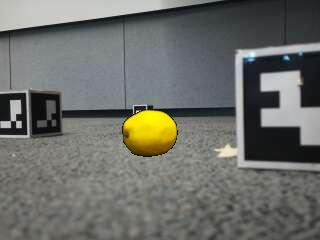lemon: (123, 111, 176, 157)
